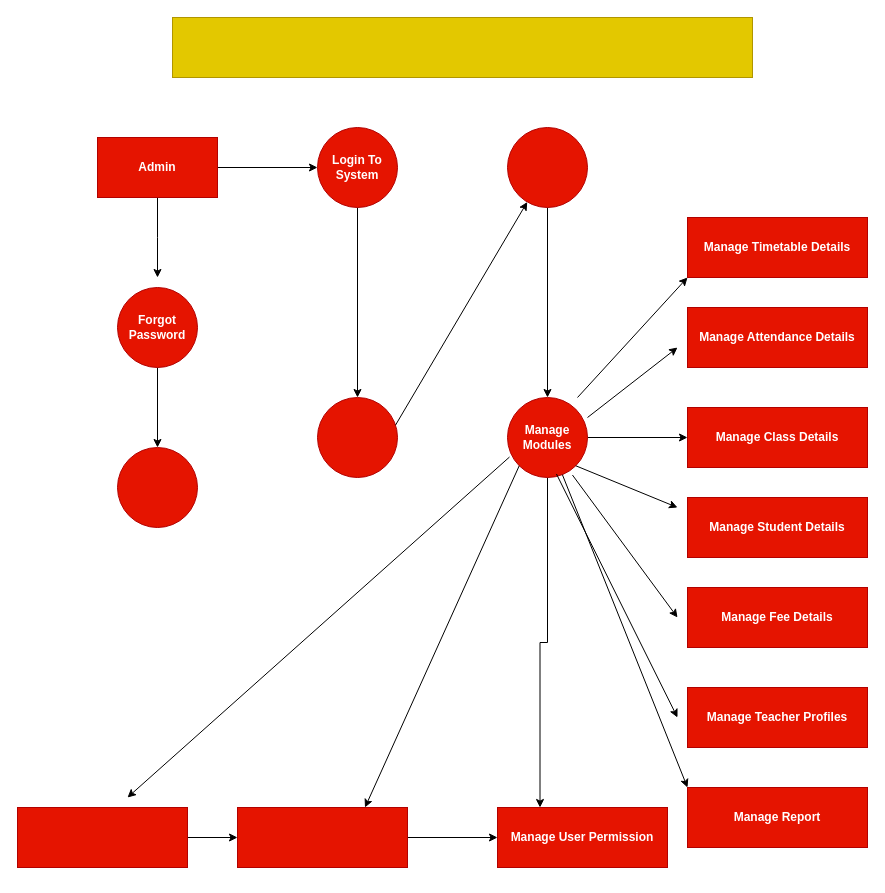
This 885x893 diagram has some shape labels left out. Each missing label, with the centre of its shape:
Check Credentials: (x=357, y=437)
Check Roles Of Action: (x=547, y=167)
Manage Roles Of User: (x=322, y=837)
Manage System Admins: (x=102, y=837)
Send Email To User: (x=157, y=487)
Student Information System: (x=462, y=47)
